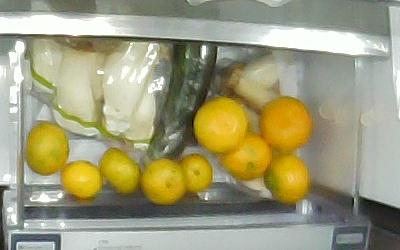tangerine: (192, 95, 248, 152), (257, 95, 313, 152), (216, 134, 270, 180), (24, 121, 69, 175), (262, 152, 309, 203), (139, 156, 186, 204), (97, 146, 141, 195), (59, 159, 102, 198), (179, 151, 212, 192)
